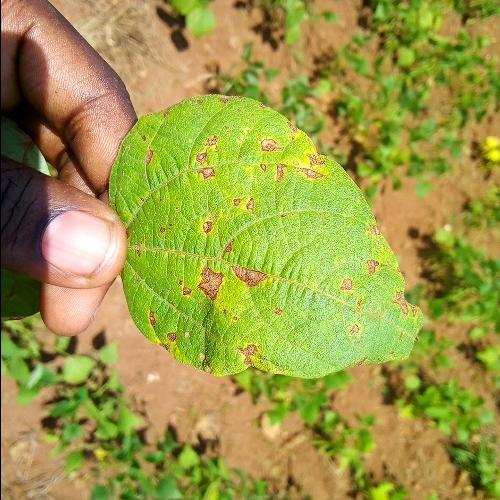hawar: (150, 118, 386, 382)
